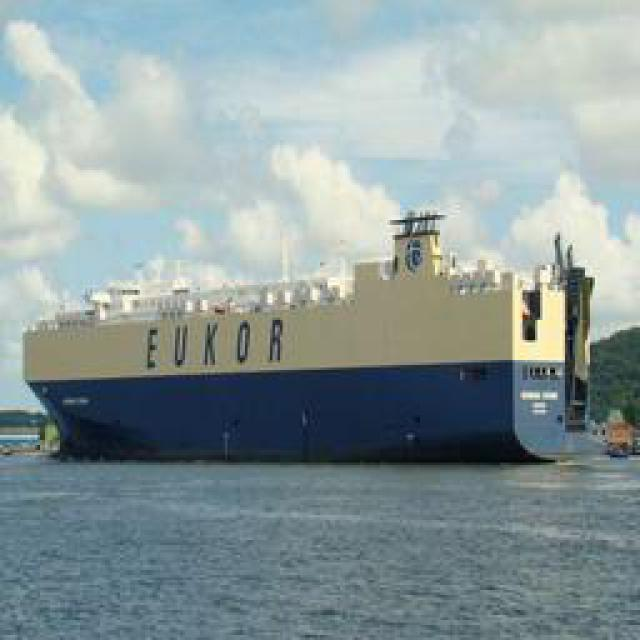Ship: (29, 237, 614, 467)
